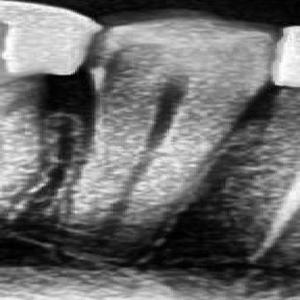tooth: (55, 10, 275, 250)
